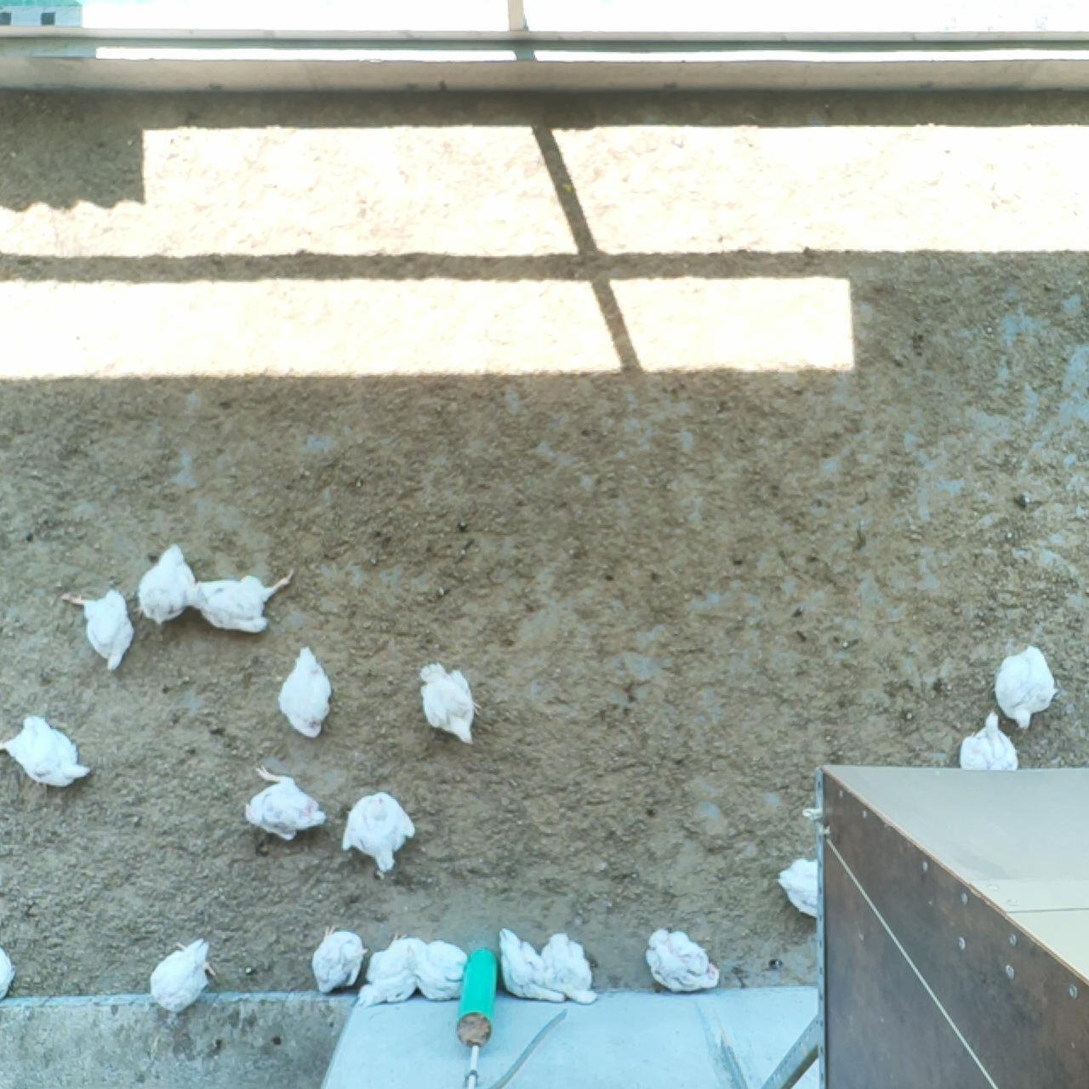chicken: (1, 714, 91, 790), (994, 637, 1058, 738), (244, 766, 324, 846), (411, 659, 481, 750), (59, 586, 131, 672), (193, 578, 296, 636), (494, 929, 567, 1008), (954, 707, 1027, 786), (274, 647, 334, 740), (343, 792, 415, 868), (648, 929, 724, 996), (539, 927, 601, 1009), (144, 942, 216, 1008), (137, 546, 197, 624), (411, 934, 472, 1005), (774, 852, 833, 921), (311, 930, 365, 997), (367, 936, 415, 1003), (1, 945, 19, 1000)
